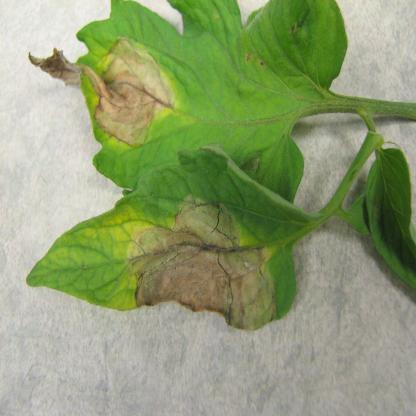Tomato leaf late blight: (25, 2, 356, 176), (22, 149, 316, 343)
